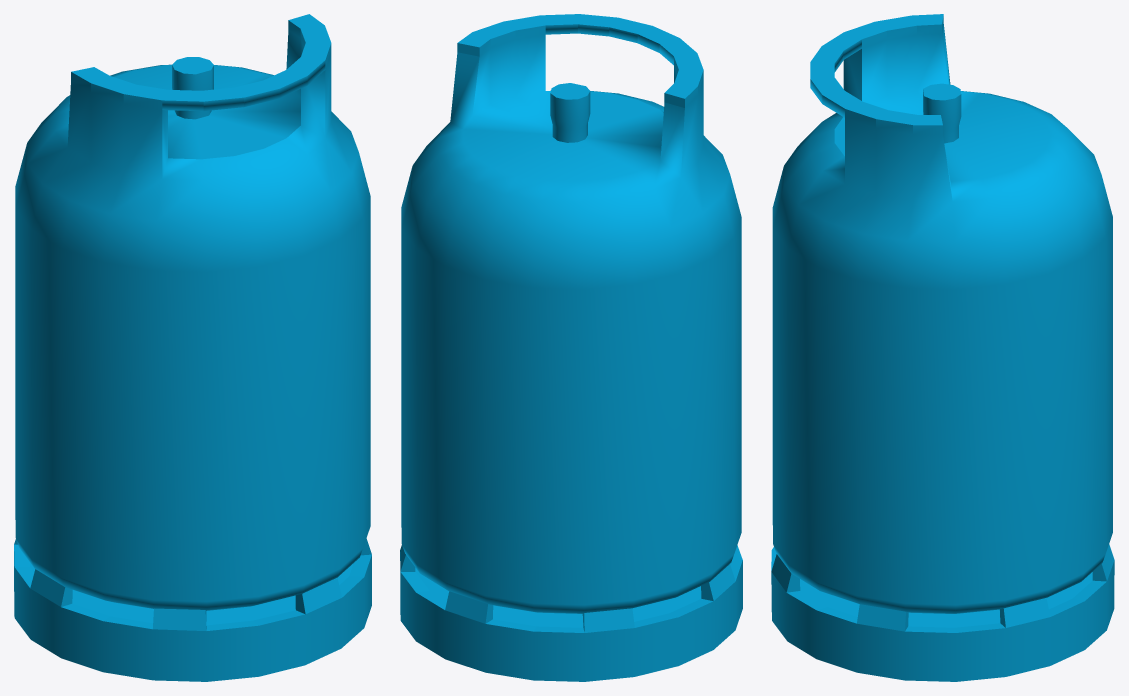
The model's file is Gas_Cylinder_02_Lod0.fbx.
3 views of the same model, side by side, from view 1: azimuth 30°, elevation 25°; view 2: azimuth 150°, elevation 25°; view 3: azimuth 270°, elevation 25° (orthographic). The views are drawn at different scales.
Parts seen in each view (by area): view 1: Gas_Cylinder_02_Lod0; view 2: Gas_Cylinder_02_Lod0; view 3: Gas_Cylinder_02_Lod0.
Boxes of the visible parts, x1,y1,x2,y2 form: Gas_Cylinder_02_Lod0: (14,14,371,681); Gas_Cylinder_02_Lod0: (400,14,742,681); Gas_Cylinder_02_Lod0: (771,14,1114,681).
Bounding box in the file's own units: 34.45 × 59.63 × 34.4.
